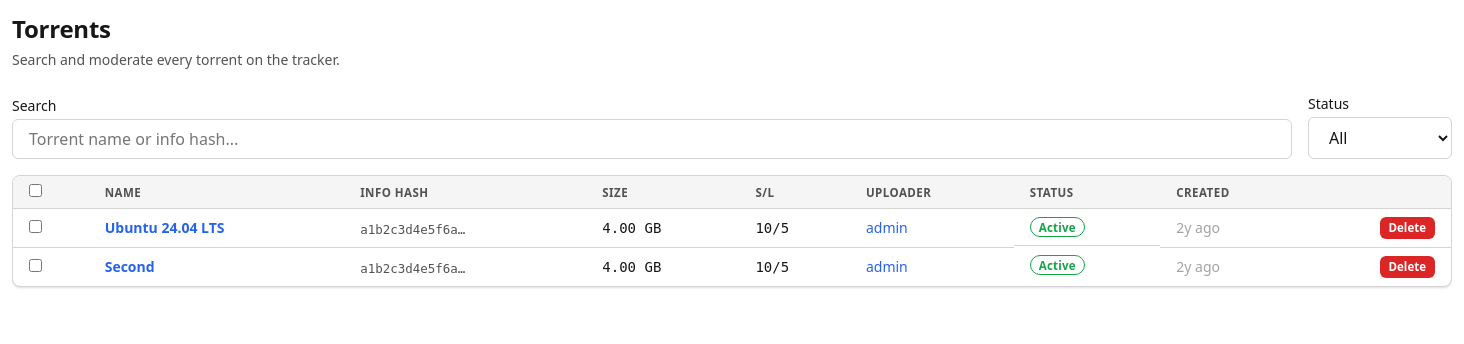
Test: AdminTorrentsPage › select-all ticks every row on the page
This screenshot has width=1464, height=344.
Expected: the link "Second" is shown, top-left (105, 257), bottom-right (155, 276)
Click the checkbox named "Select all on this page": coordinates (36, 190) top-left (29, 184), bottom-right (42, 197)
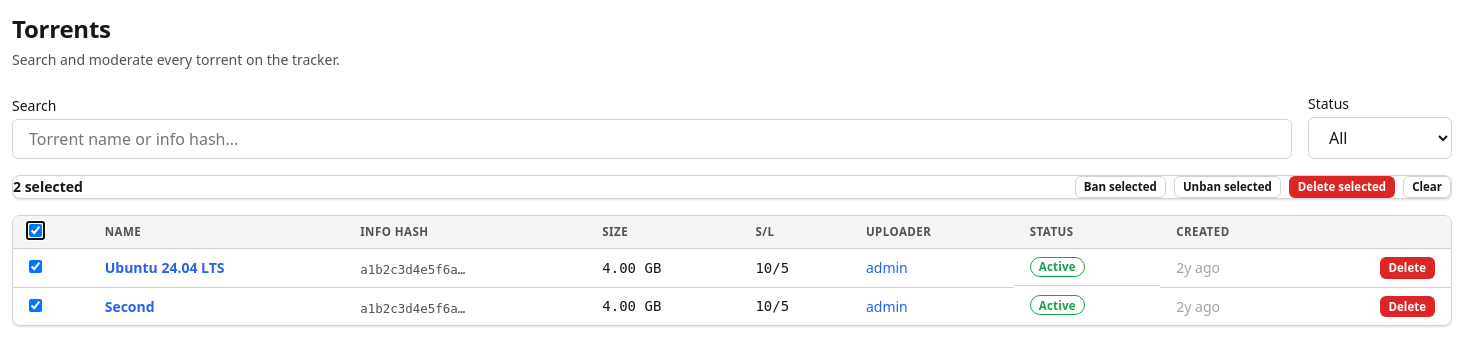
Result: the text "2 selected" is shown at top-left (13, 177), bottom-right (83, 196)
Click the checkbox named "Select all on this page": coordinates (36, 230) top-left (29, 224), bottom-right (42, 237)
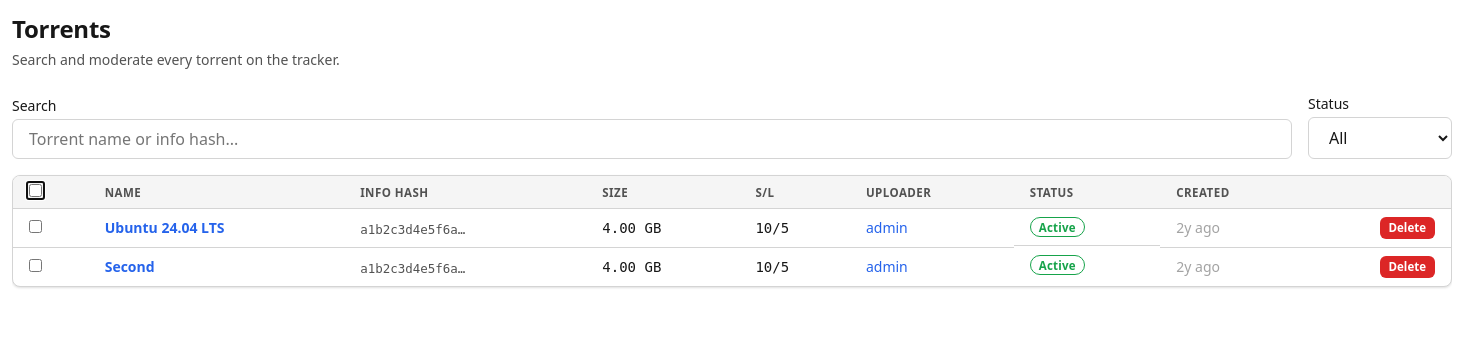
Result: the text "2 selected" is gone
